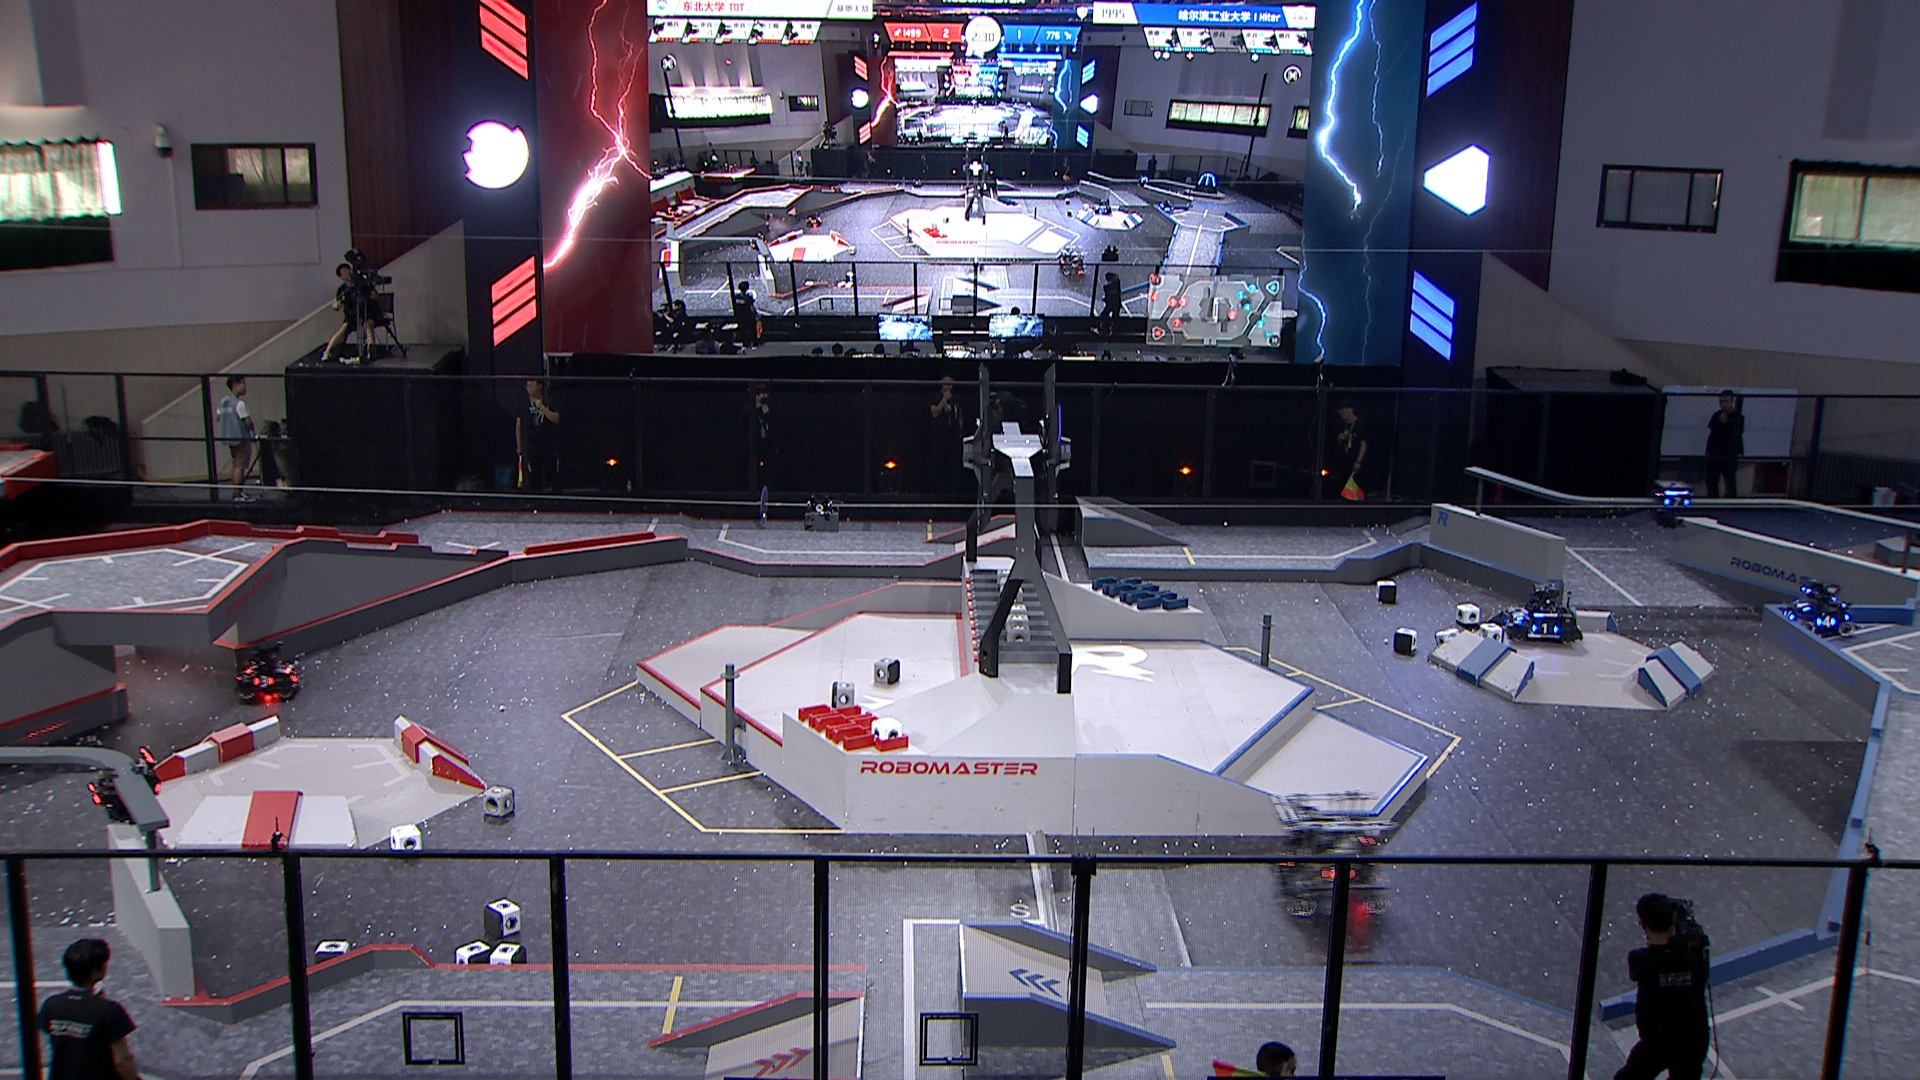armor: (82, 782, 103, 807), (1662, 495, 1691, 510), (1528, 622, 1560, 636), (1815, 613, 1840, 629), (249, 674, 276, 688), (1793, 599, 1812, 612), (1782, 608, 1795, 621)
car: (1269, 787, 1394, 922), (1505, 579, 1584, 647), (229, 638, 305, 700), (1780, 579, 1855, 641)
ignore: (1058, 247, 1091, 278), (1195, 171, 1220, 194), (665, 199, 683, 216), (1092, 199, 1112, 215), (1158, 196, 1174, 214), (807, 211, 825, 225)
watcher: (78, 746, 164, 827), (1648, 477, 1695, 531)
